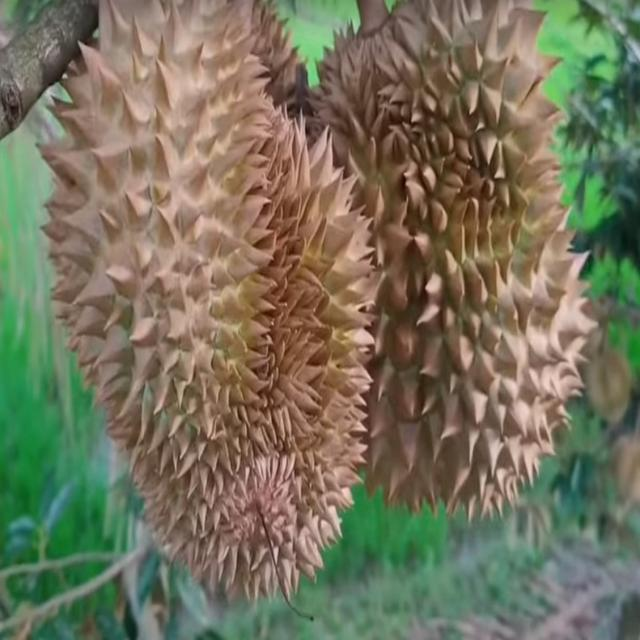mature: (32, 0, 376, 616), (304, 0, 600, 528)
